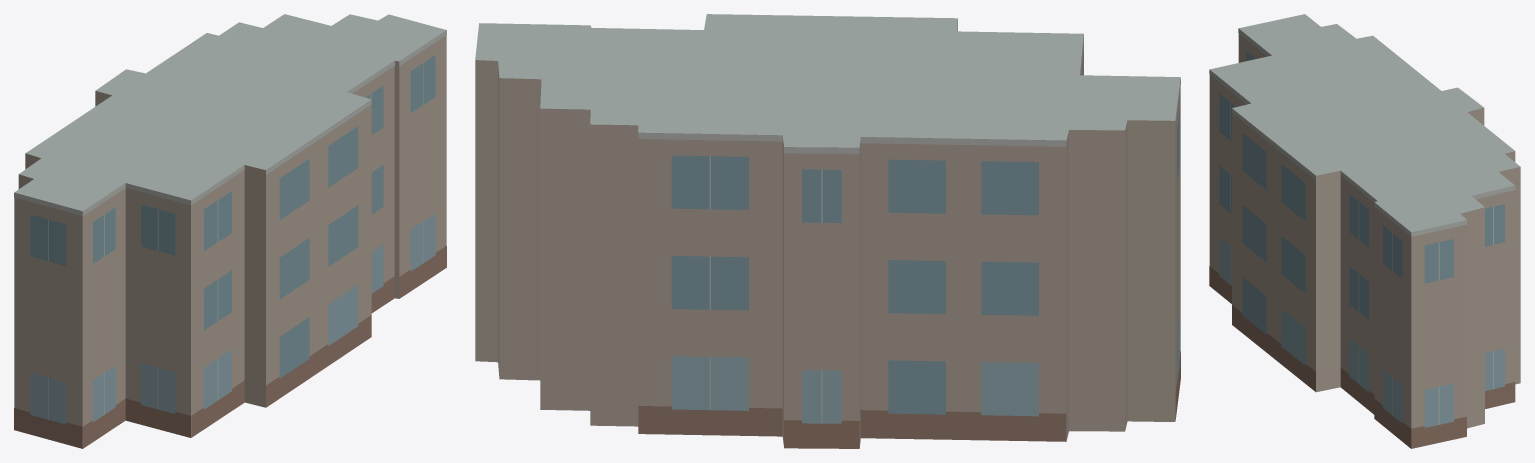
The model's file is survey-upis-32503201.glb.
3 views of the same model, side by side, from view 1: azimuth 30°, elevation 25°; view 2: azimuth 150°, elevation 25°; view 3: azimuth 270°, elevation 25° (orthographic). The views are drawn at different scales.
Visible parts, largest first — view 1: survey-upis-32503201.tmp; view 2: survey-upis-32503201.tmp; view 3: survey-upis-32503201.tmp.
Part boxes in pixels (box(x1,y1,x2,y2)): survey-upis-32503201.tmp: box(14, 14, 446, 448); survey-upis-32503201.tmp: box(475, 14, 1180, 448); survey-upis-32503201.tmp: box(1209, 14, 1520, 448).
Bounding box in the file's own units: 25.26 × 11.68 × 15.21.
